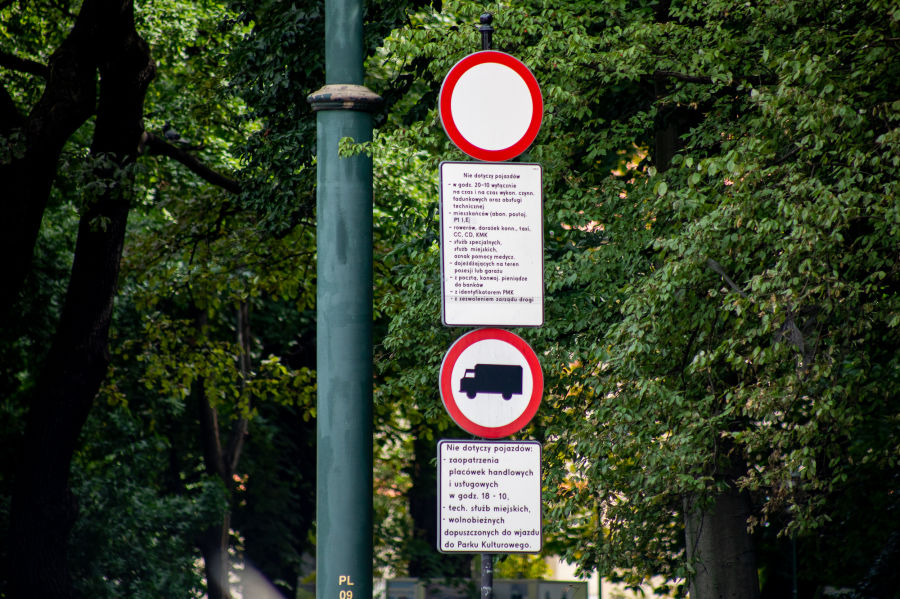no_entry_sign: (438, 50, 543, 163)
